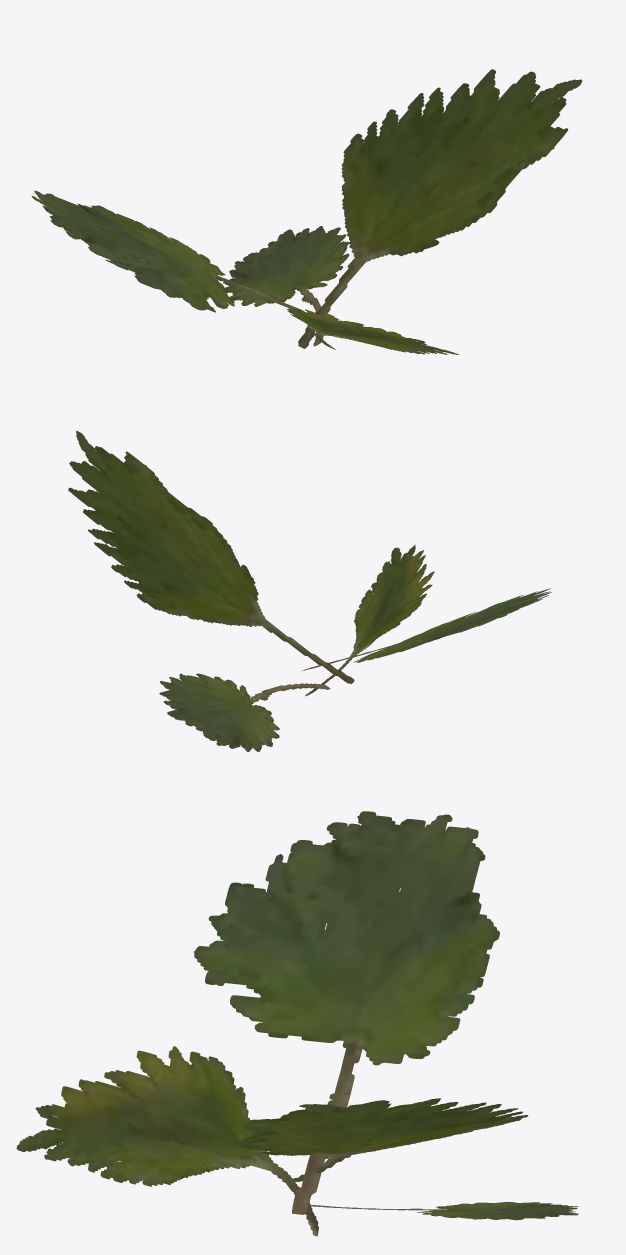
3 views of the same model, one above another, from view 1: azimuth 30°, elevation 25°; view 2: azimuth 150°, elevation 25°; view 3: azimuth 270°, elevation 25° (orthographic). The views are drawn at different scales.
Parts seen in each view (by area): view 1: nettle_plant__b_lod1; view 2: nettle_plant__b_lod1; view 3: nettle_plant__b_lod1.
Boxes of the visible parts, x1,y1,x2,y2 form: nettle_plant__b_lod1: (31,69,582,354); nettle_plant__b_lod1: (68,431,551,751); nettle_plant__b_lod1: (16,811,578,1236).
Bounding box in the file's own units: 0.0572 × 0.0226 × 0.0397.
1 material, 1 textured.
